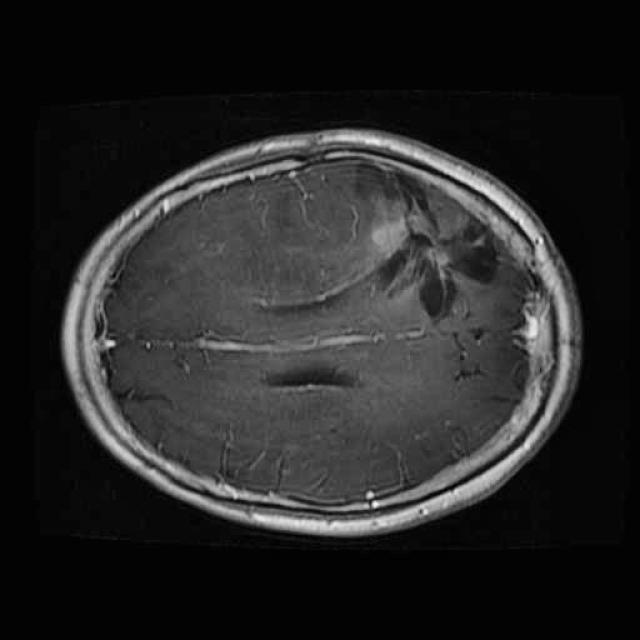Tumor: (334, 139, 516, 340)
